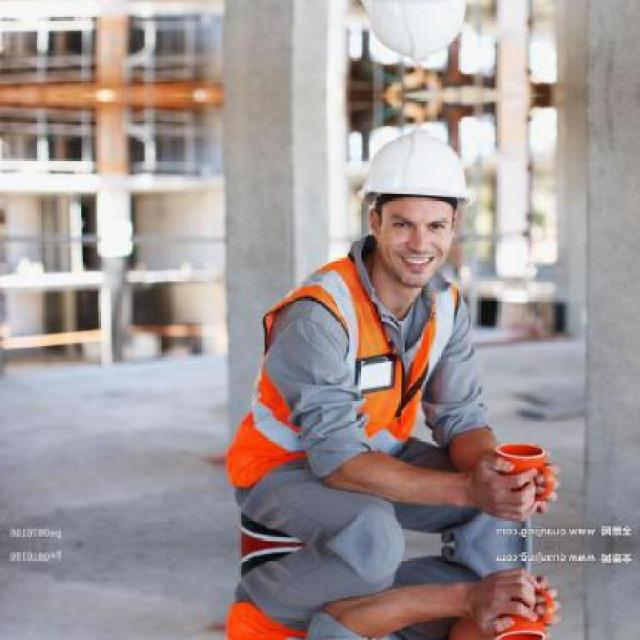Reflective-Jacket: (218, 262, 476, 488)
Safety-Helmet: (348, 123, 478, 217)
